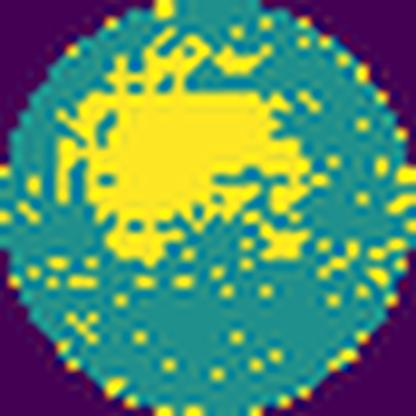Loc: (55, 29, 312, 264)
